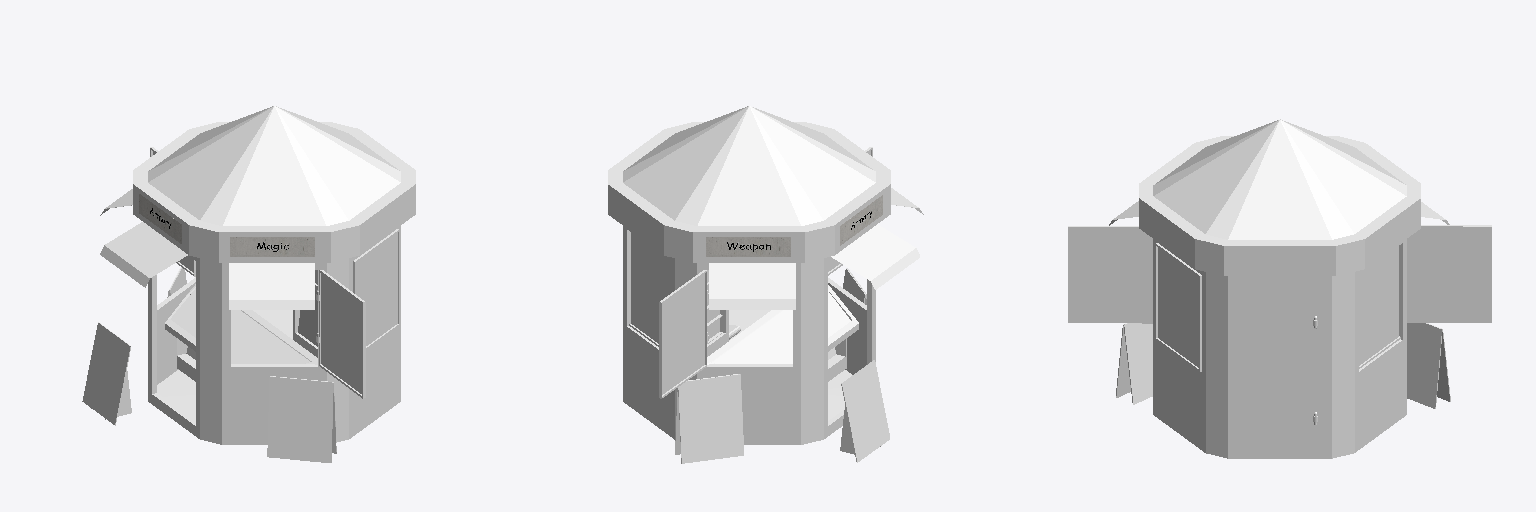
3 views of the same model, side by side, from view 1: azimuth 30°, elevation 25°; view 2: azimuth 150°, elevation 25°; view 3: azimuth 270°, elevation 25° (orthographic).
Parts seen in each view (by area): view 1: Figure_1; view 2: Figure_1; view 3: Figure_1.
Part boxes in pixels (x1,y1,x2,y2): Figure_1: (82,106,415,462); Figure_1: (608,106,923,463); Figure_1: (1068,119,1491,458).
Bounding box in the file's own units: 1.28 × 1.35 × 1.78.
Materials: 38 (3 with a texture image).